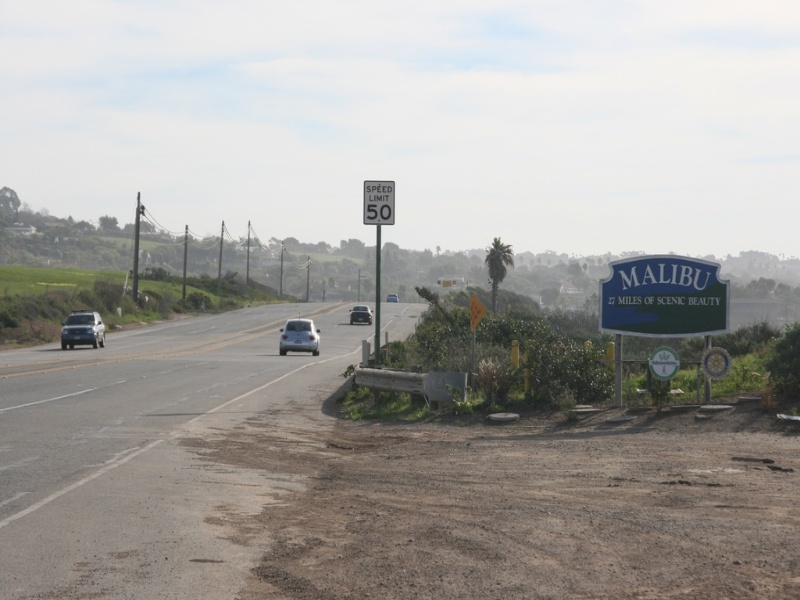speed_limit_50: (356, 176, 405, 227)
